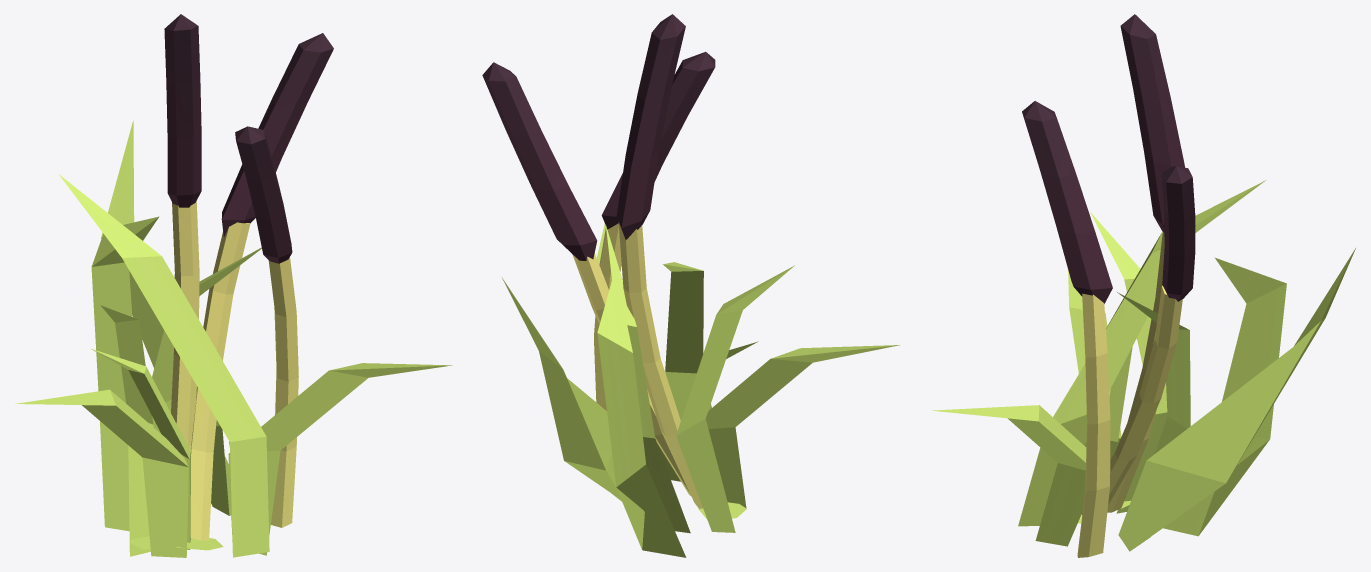
Rendered from kamysh4.fbx.
3 renders of one model, left to right at view 1: azimuth 30°, elevation 25°; view 2: azimuth 150°, elevation 25°; view 3: azimuth 270°, elevation 25°, orthographic. The views are drawn at different scales.
Parts seen in each view (by area): view 1: Cone.001; view 2: Cone.001; view 3: Cone.001.
Boxes of the visible parts, x1,y1,x2,y2 form: Cone.001: (15, 14, 452, 557); Cone.001: (482, 14, 899, 557); Cone.001: (932, 14, 1355, 557).
Size of the model in its own units: 63.84 by 86.25 by 63.77.
